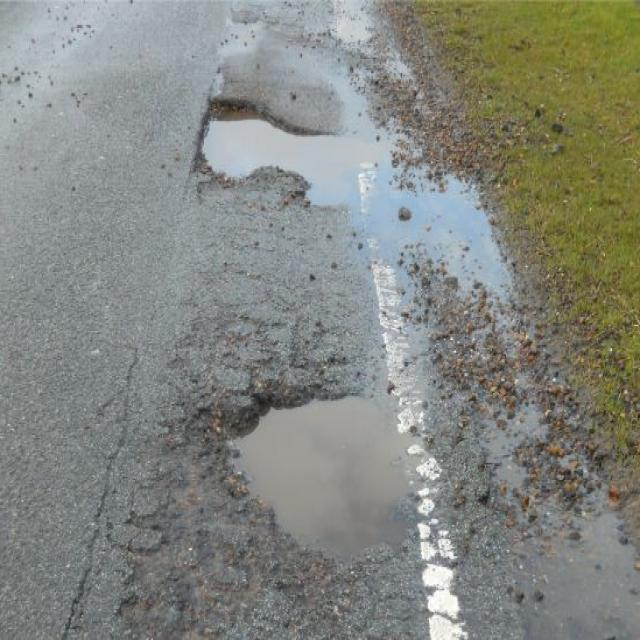Pothole: (198, 373, 420, 567), (193, 90, 351, 210)
